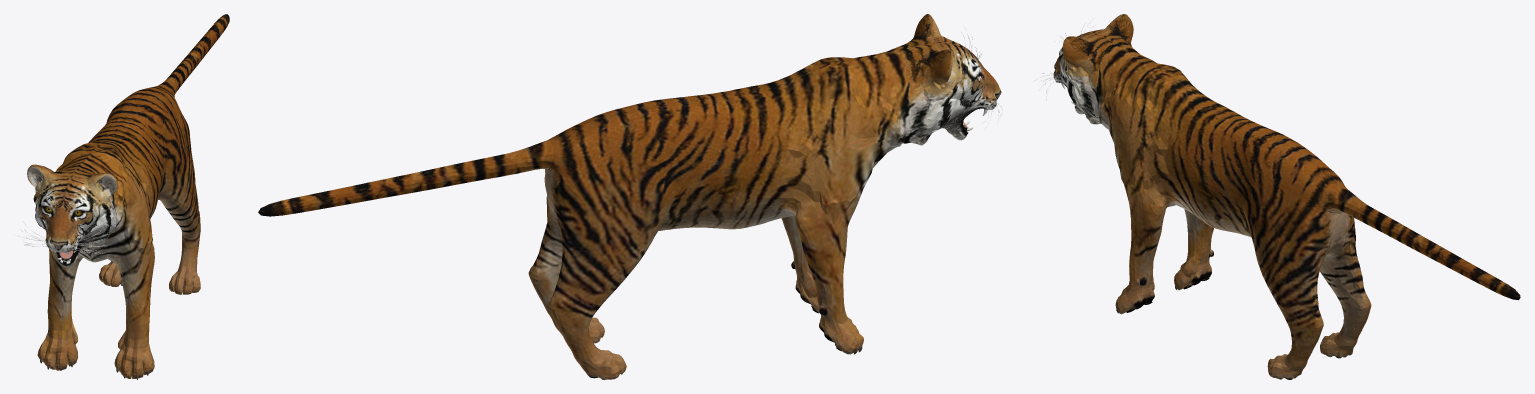
File: tiger.glb
The picture shows the model from 3 angles, left to right: view 1: azimuth 30°, elevation 25°; view 2: azimuth 150°, elevation 25°; view 3: azimuth 270°, elevation 25°; orthographic projection. The views are drawn at different scales.
Bounding box in the file's own units: 2.5 × 1.38 × 2.47.
1 material, 1 textured.
